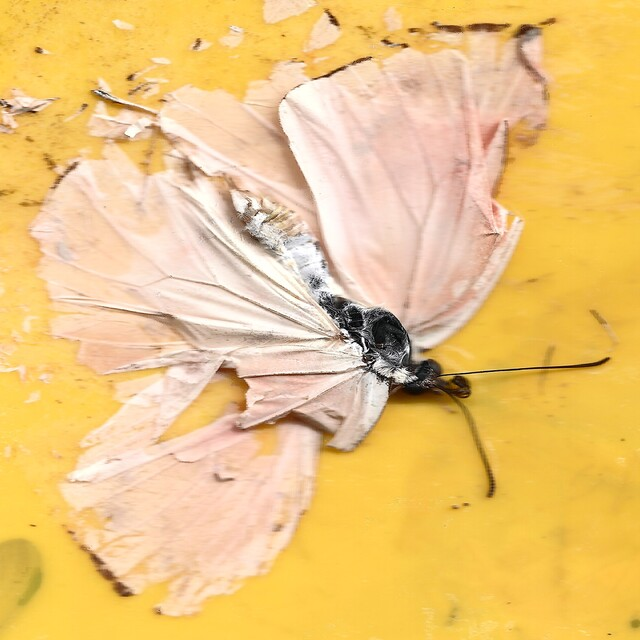Lepidoptera: (28, 21, 612, 619)
